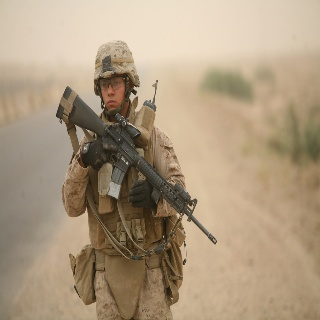rifle: (55, 85, 219, 249)
